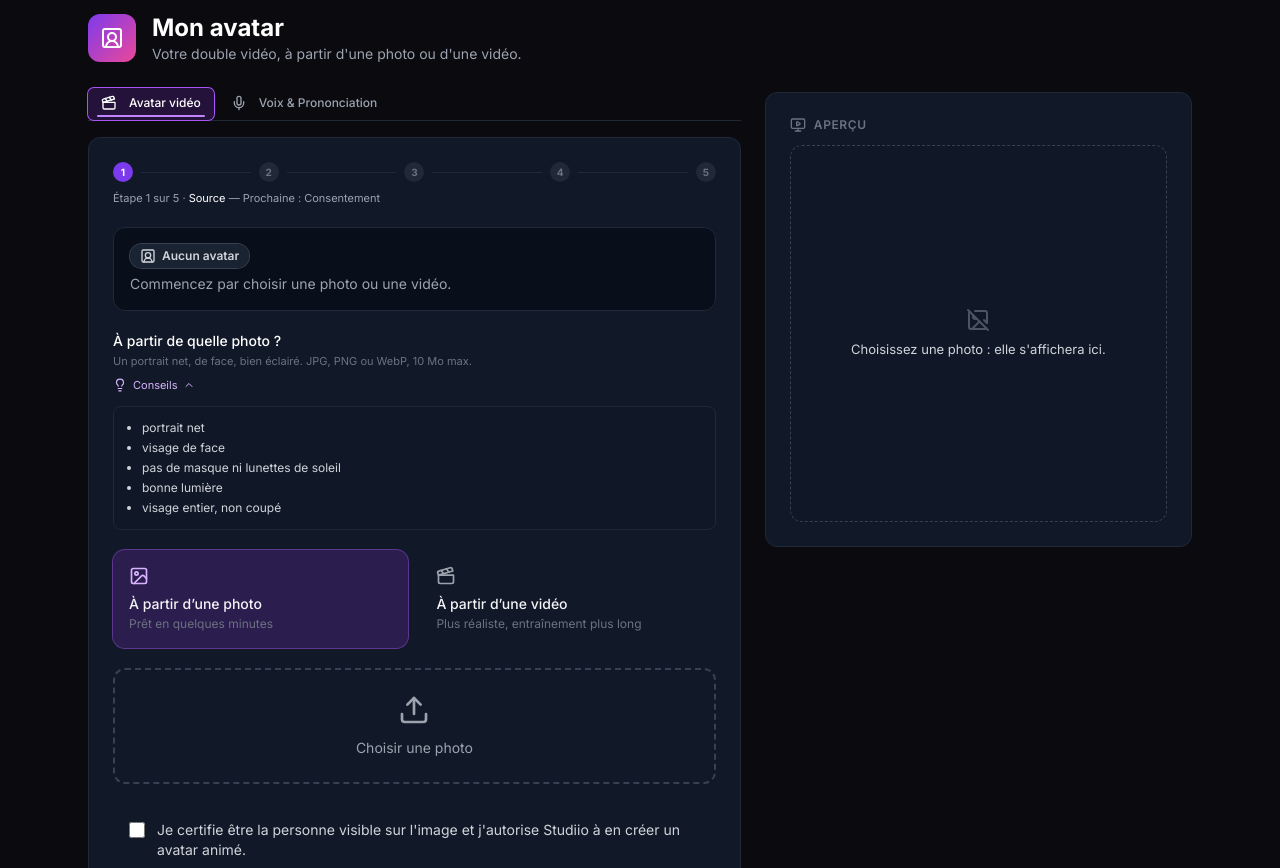
Test: B. La consigne — « quoi faire maintenant », une par étape › ⚠️ Source : « À partir de quelle photo ? » ; en choisissant la vidéo → « À partir de quelle vidéo ? »
Expected: the navigation bar is shown, [113, 162, 716, 206]
Click the button "À partir d’une vidéo Plus réaliste, entraînement plus long" at (568, 599), box [420, 550, 716, 648]
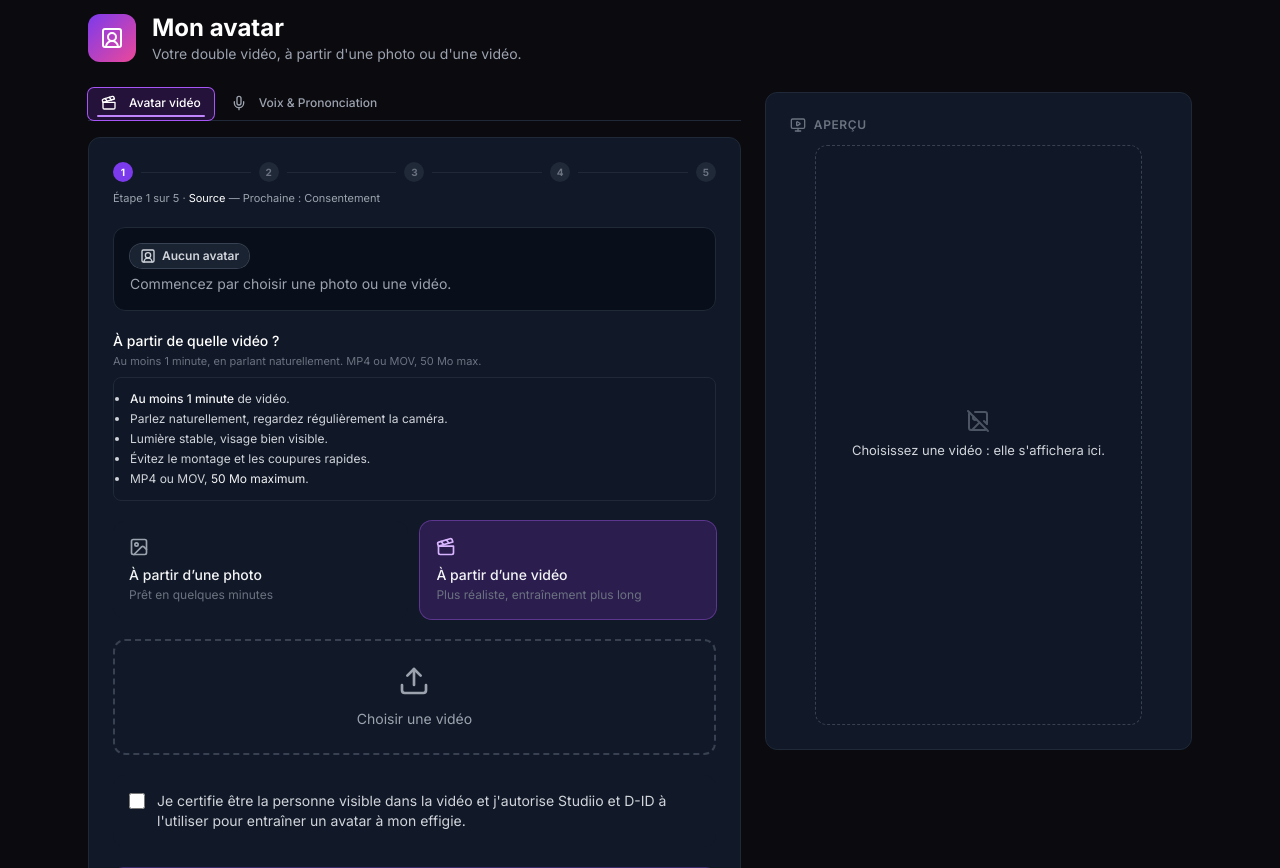
Expected: the text "À partir de quelle vidéo ?" is shown, [113, 332, 279, 348]
